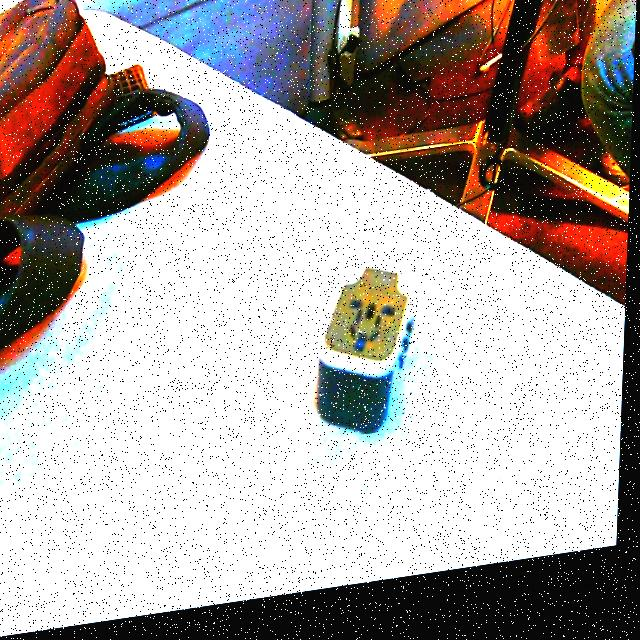adapter: (317, 267, 420, 452)
